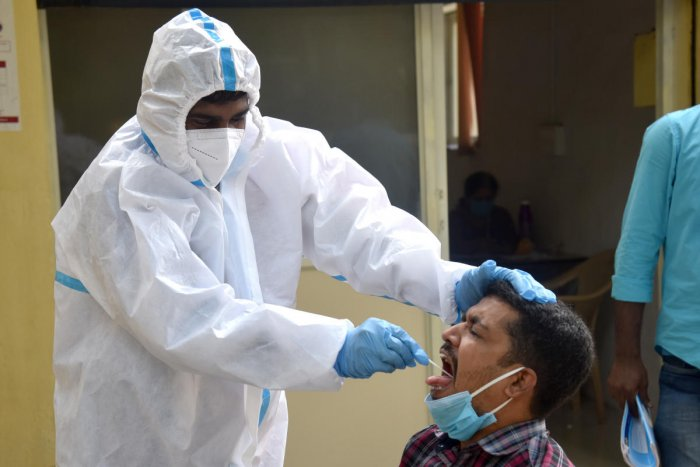Coverall: (49, 9, 460, 467)
Gloves: (331, 307, 432, 386), (447, 255, 564, 316)
mask_weared_incorrect: (424, 295, 523, 445)
with_mask: (183, 106, 252, 190)
